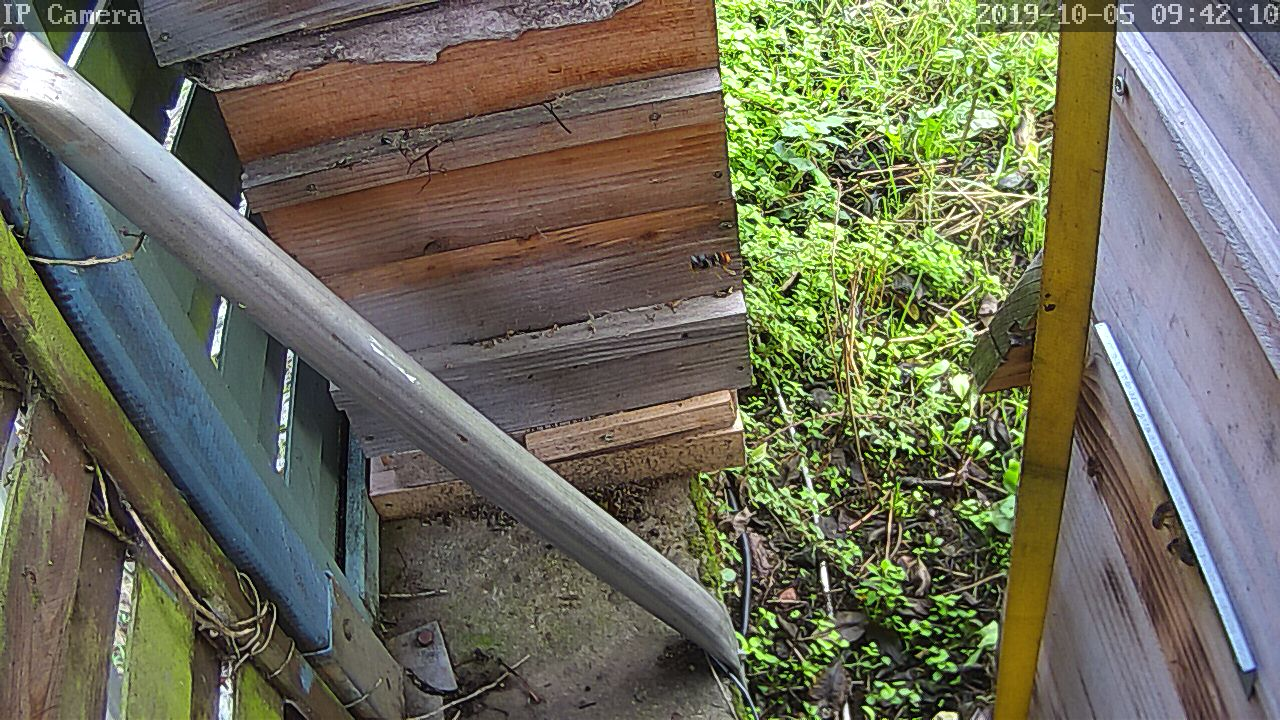bee: (1158, 531, 1199, 571), (1147, 501, 1187, 537), (1078, 448, 1108, 489)
hornet: (682, 247, 739, 280)
